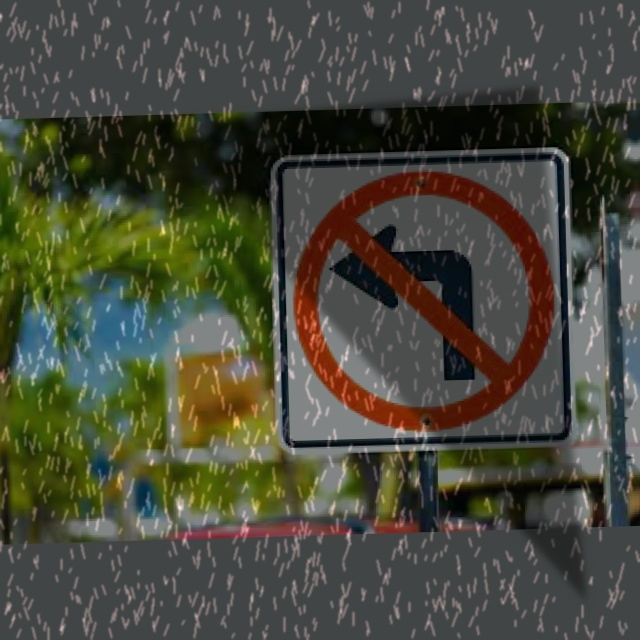Left_Turn_Prohibited: (289, 165, 564, 442)
